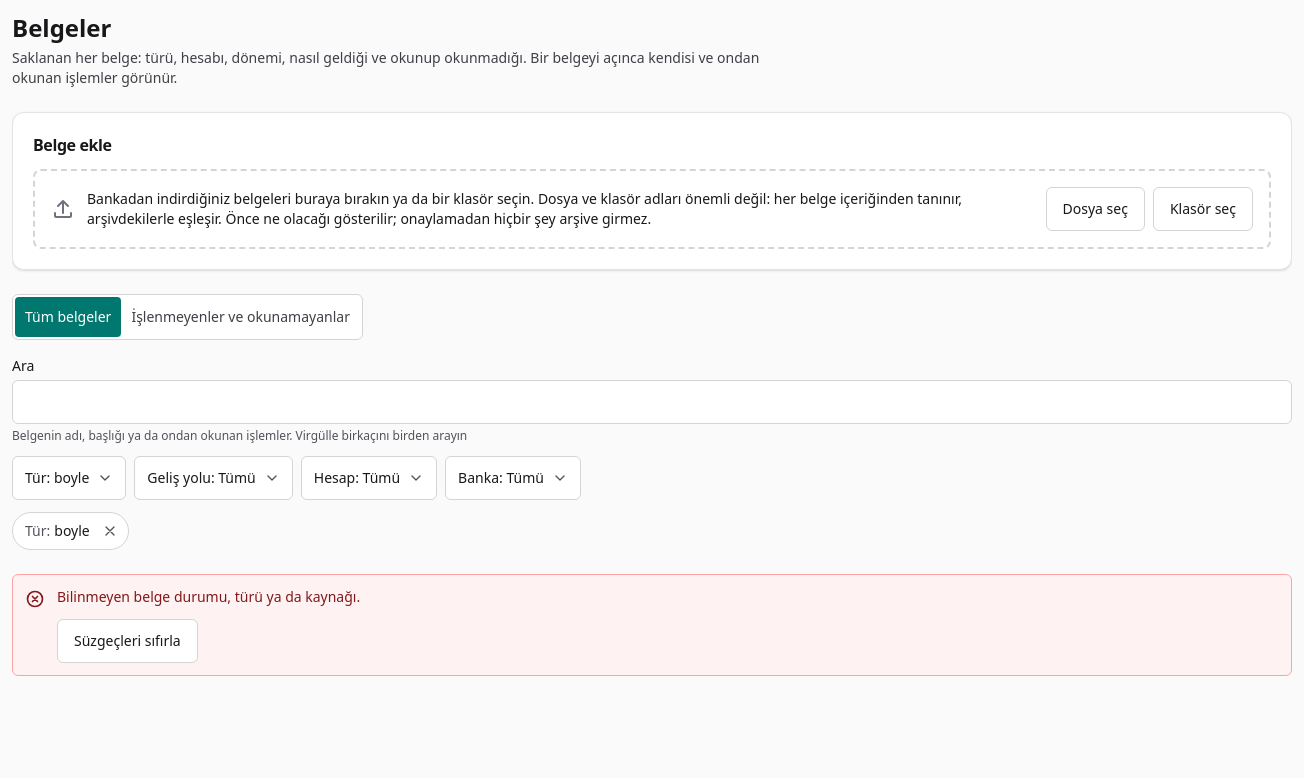
Test: DocumentsPage: its states › says what was wrong with a filter the service refused, and takes it off
Expected: the text "Bilinmeyen belge durumu, türü ya da kaynağı." is shown, [57,587,360,607]
Step 1. Click the button "Süzgeçleri sıfırla" → {"x": 127, "y": 641}, box [57,619,198,663]
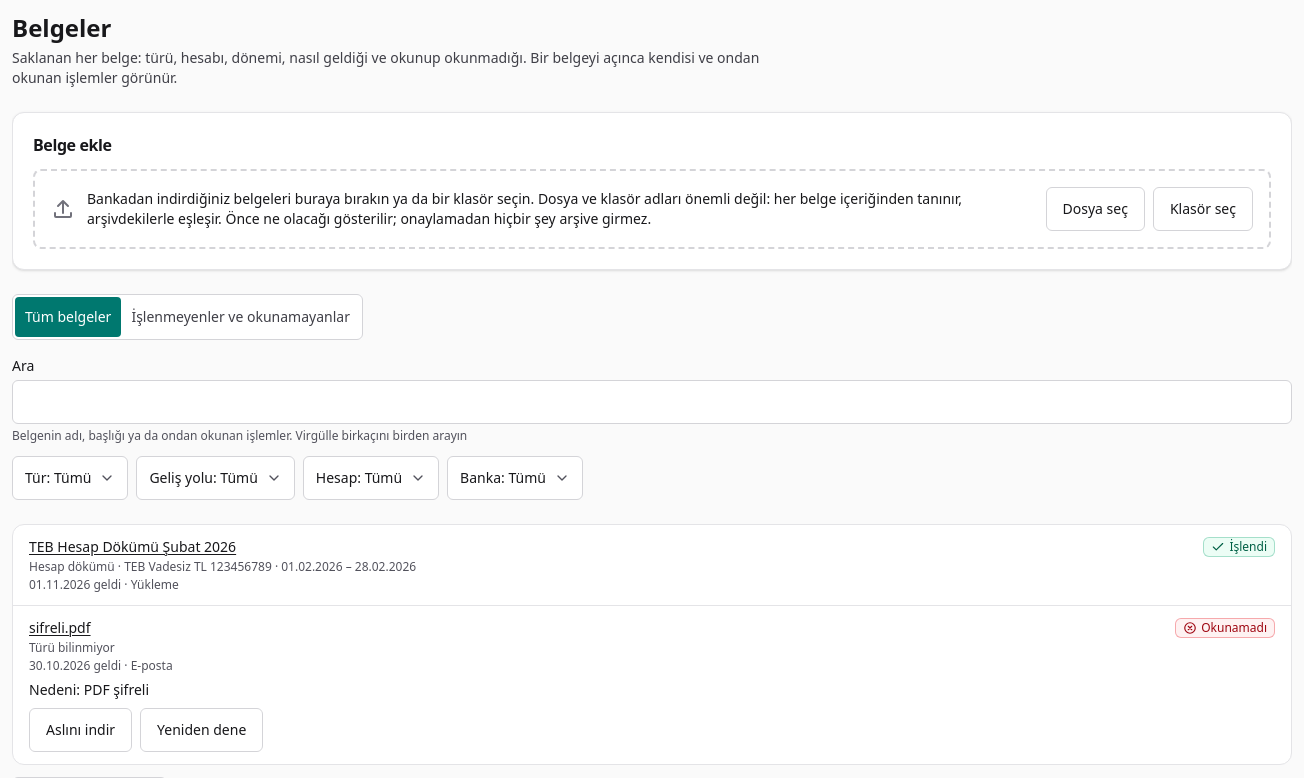
Result: the list named "Saklanan belgeler, en yenisi önce" is shown at [12,524,1292,765]
